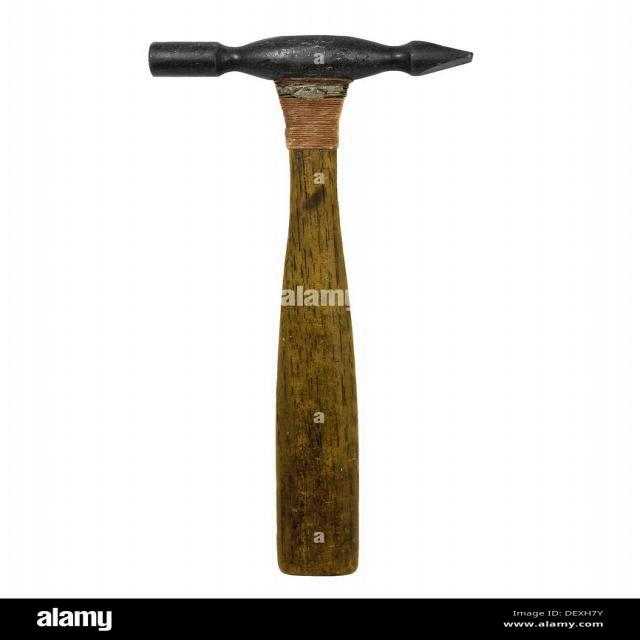hammer: (132, 24, 500, 581)
